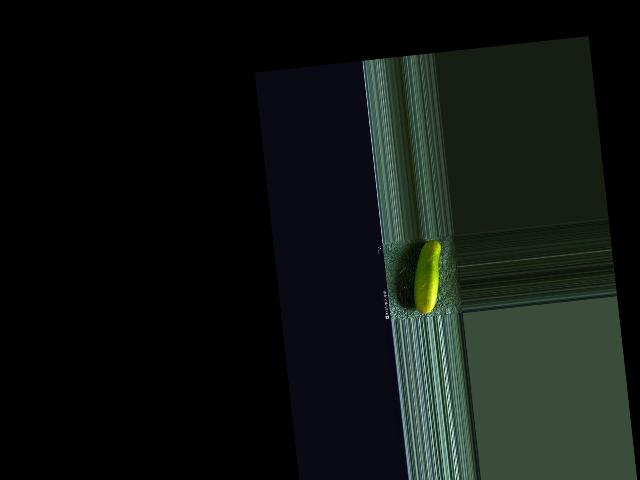cucumber: (407, 238, 447, 314)
